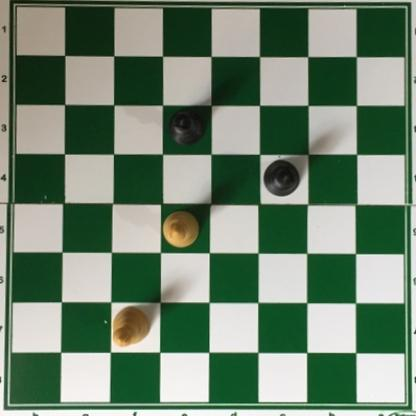black-bishop: (169, 104, 208, 146), (262, 158, 301, 198)
white-bishop: (113, 306, 152, 349), (164, 210, 201, 249)
